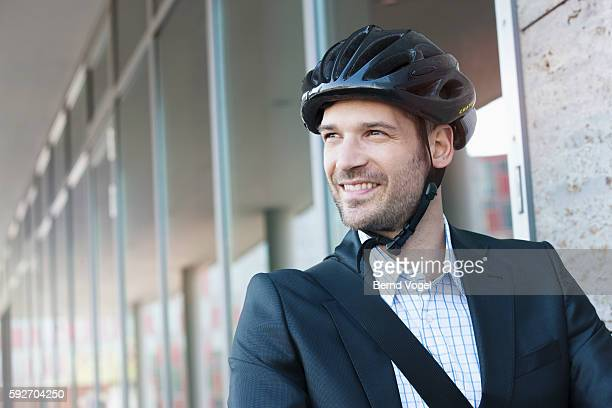helmet: (299, 24, 477, 251)
